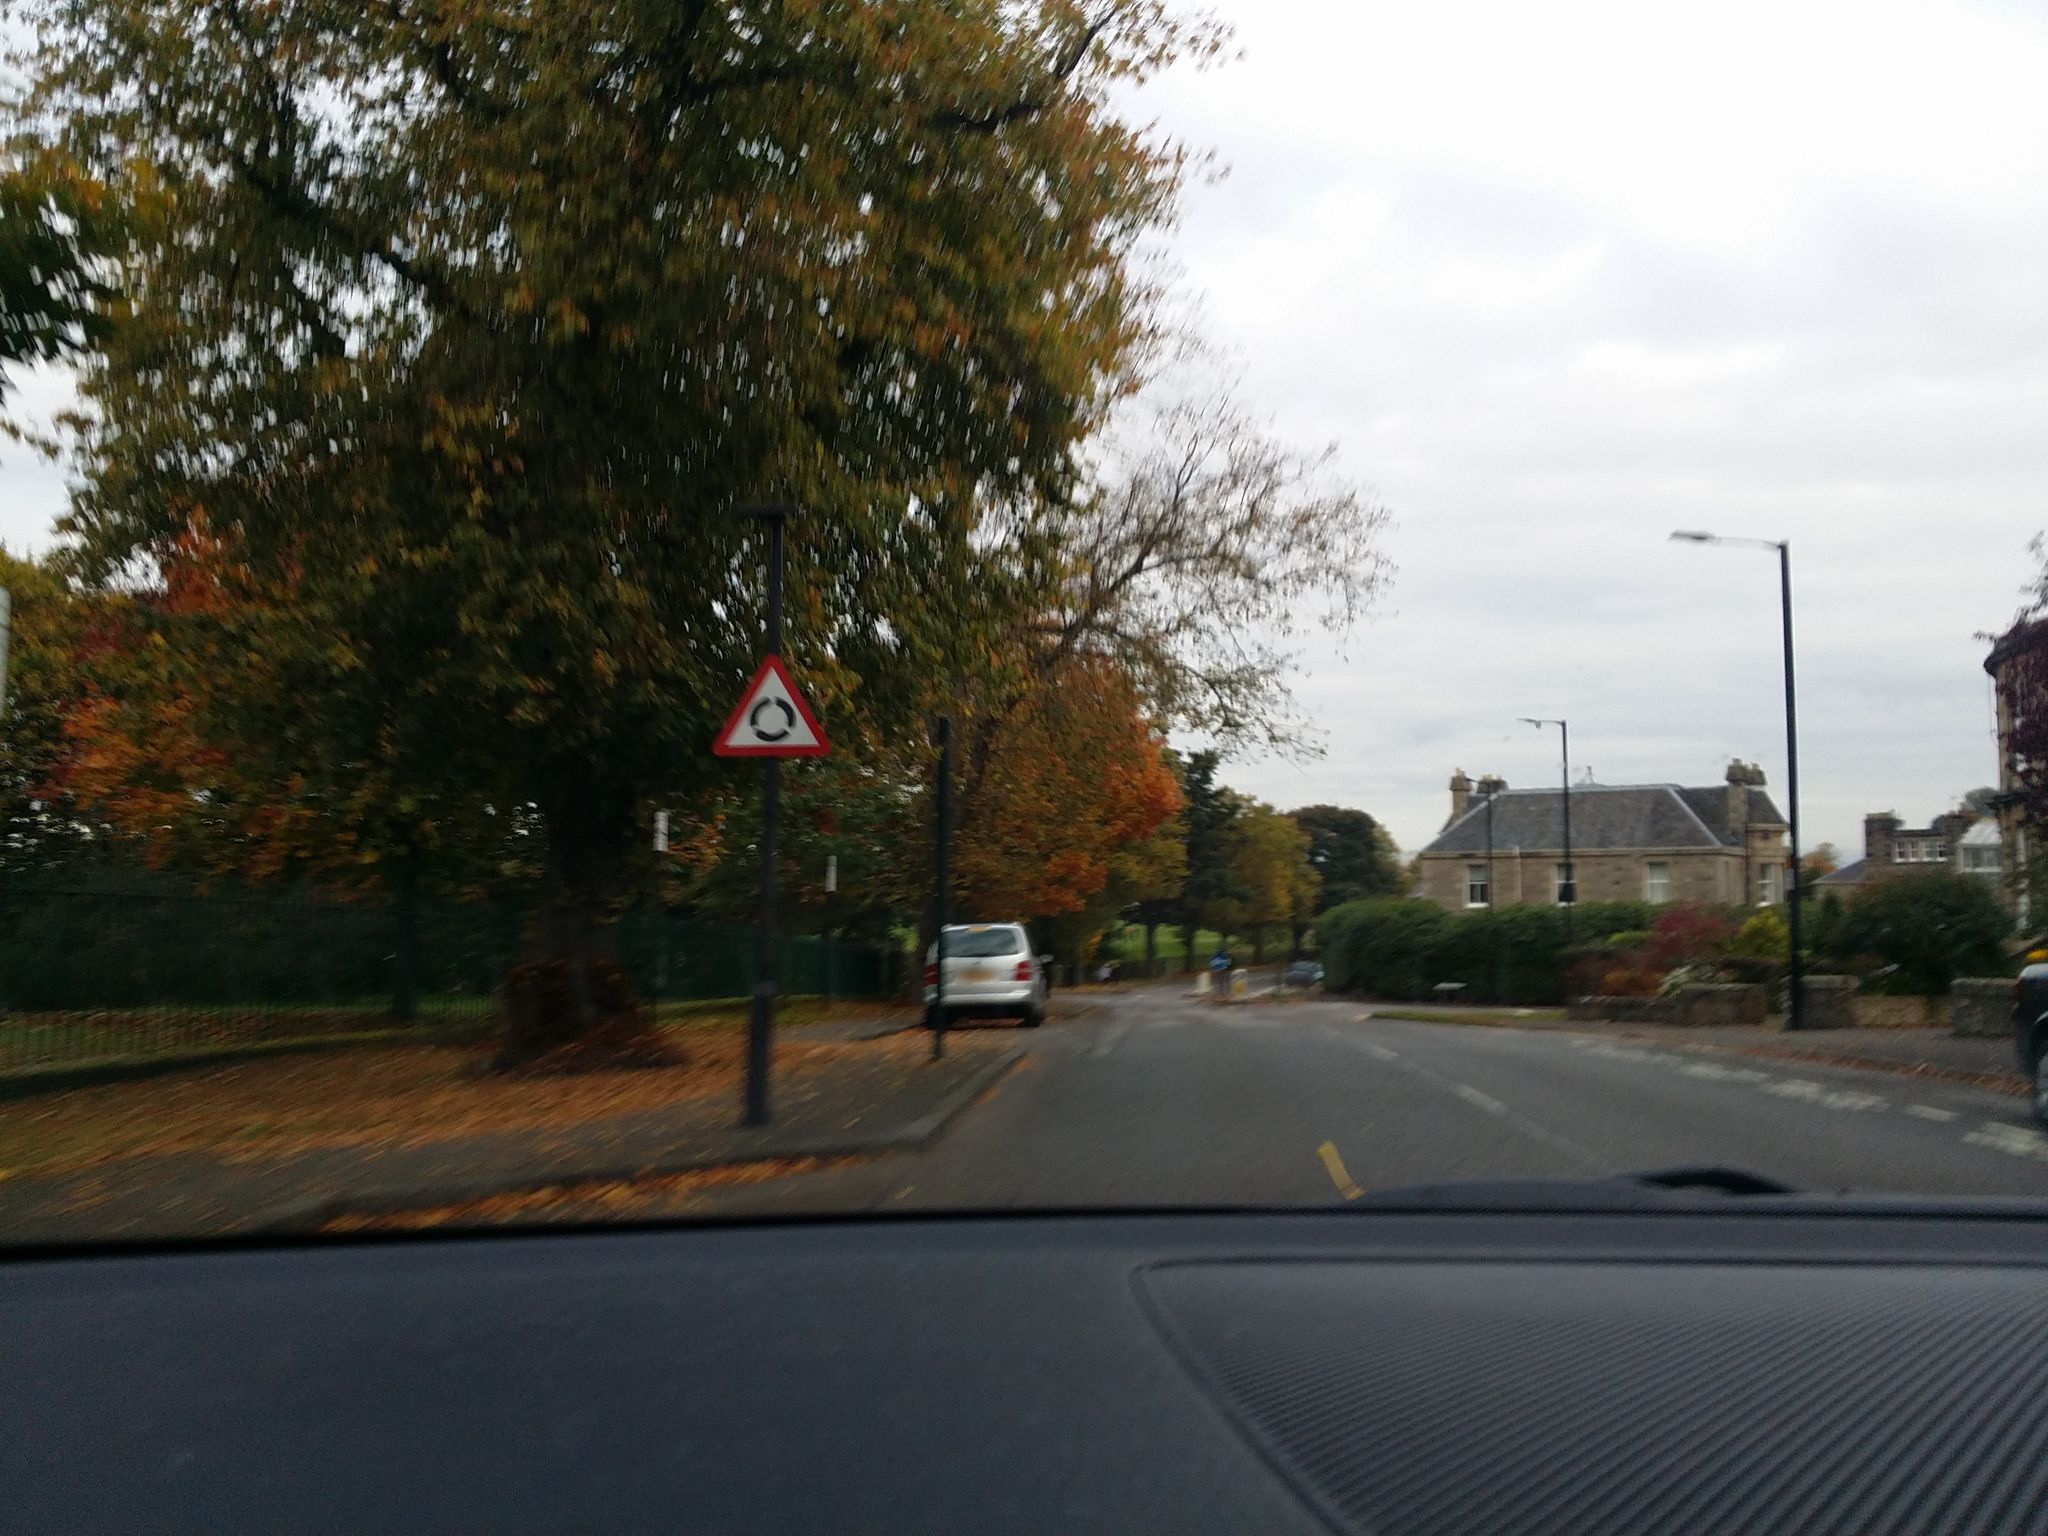car: (918, 920, 1053, 1026)
